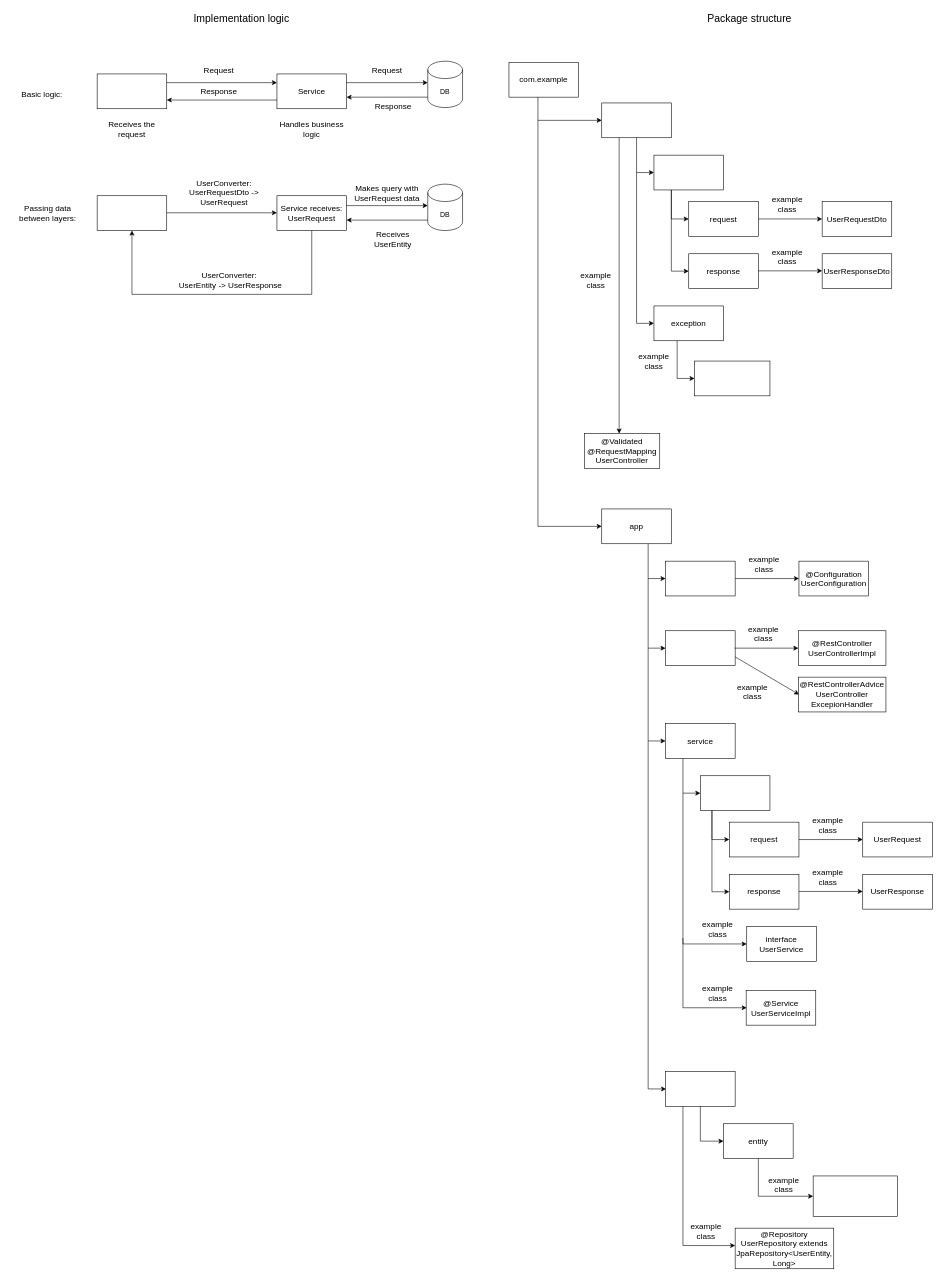
This 943x1279 diagram has some shape labels left out. The shapes that lost their labels are listed below. From the top down, each one's centre as x and y in pixels, then its label:
pixel 132 91: Controller
pixel 636 120: api
pixel 688 172: dto
pixel 132 213: Controller receives: UserRequestDto
pixel 732 378: UserAuthException extends RuntimeException
pixel 700 578: config
pixel 700 648: rest
pixel 735 793: model
pixel 700 1088: repository
pixel 855 1196: @Entity( name= "user") UserEntity
